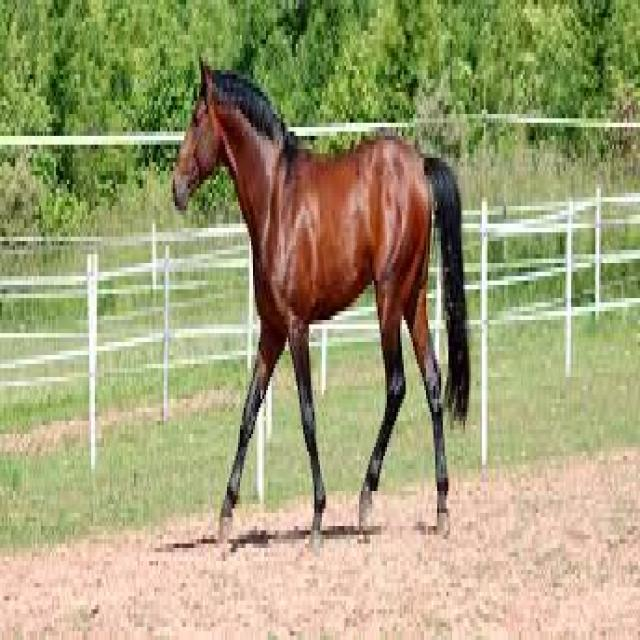Horse: (170, 56, 468, 564)
